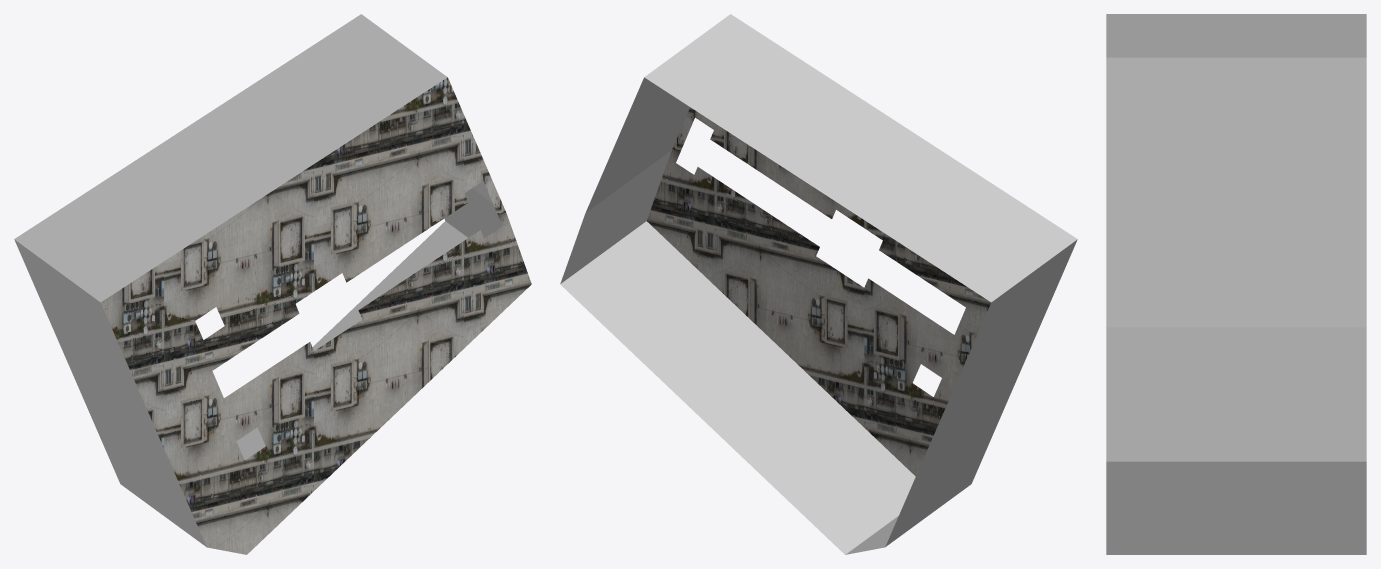
File: geospecific_87.obj
3 views of the same model, side by side, from view 1: azimuth 30°, elevation 25°; view 2: azimuth 150°, elevation 25°; view 3: azimuth 270°, elevation 25° (orthographic). The views are drawn at different scales.
Visible parts, largest first — view 1: Building; view 2: Building; view 3: Building.
Boxes of the visible parts, x1=… form: Building: x1=14, y1=14, x2=531, y2=554; Building: x1=560, y1=14, x2=1077, y2=554; Building: x1=1106, y1=14, x2=1366, y2=554.
Bounding box in the file's own units: 43.17 × 41.01 × 15.
